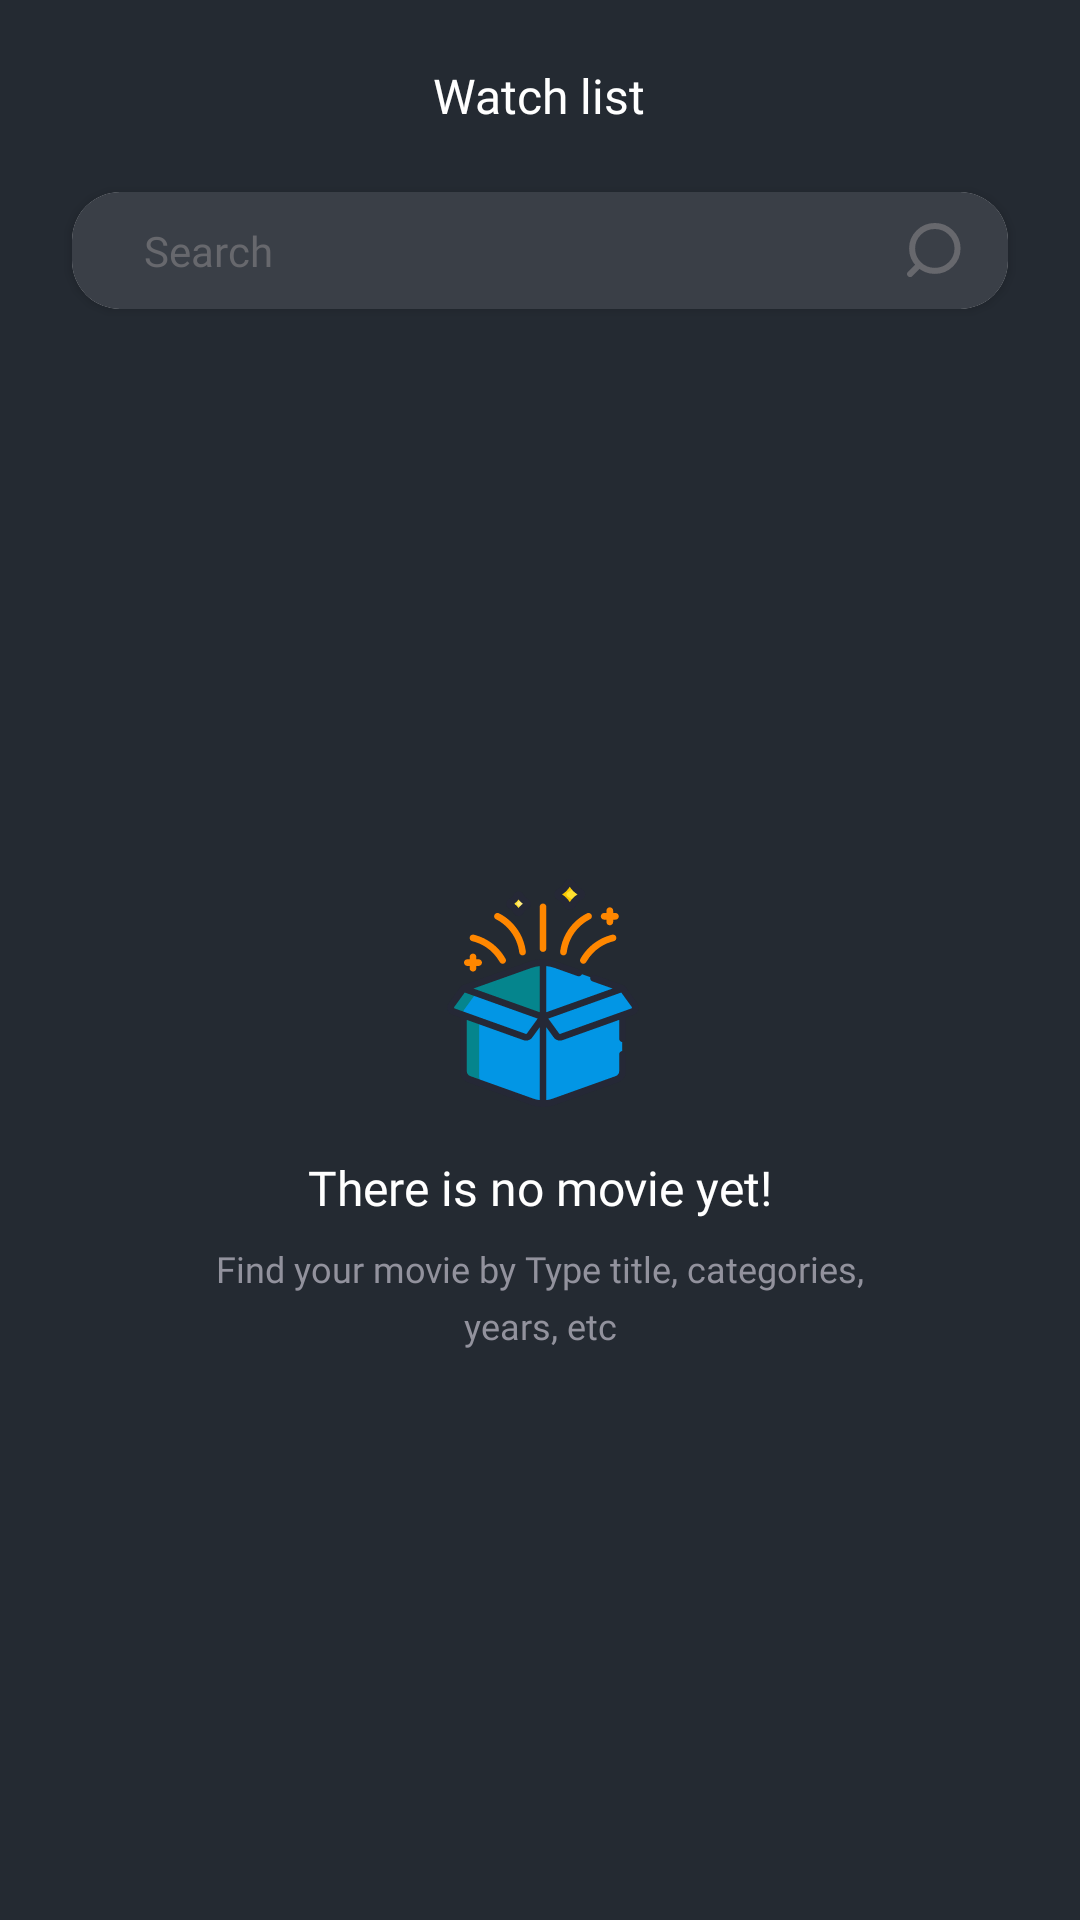

Where icons sit on this 1080 x 1920 app screen, as (x1, y1, x2, y2):
magic box: (454, 887, 632, 1100)
